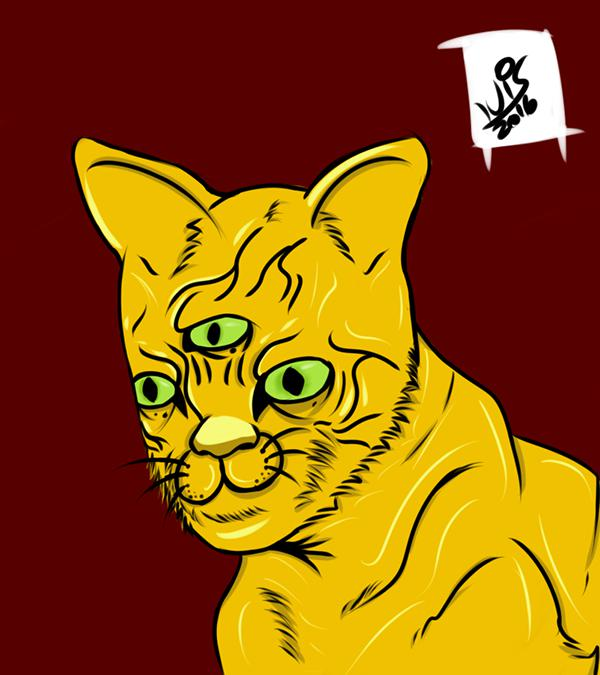cat: (25, 115, 598, 675)
